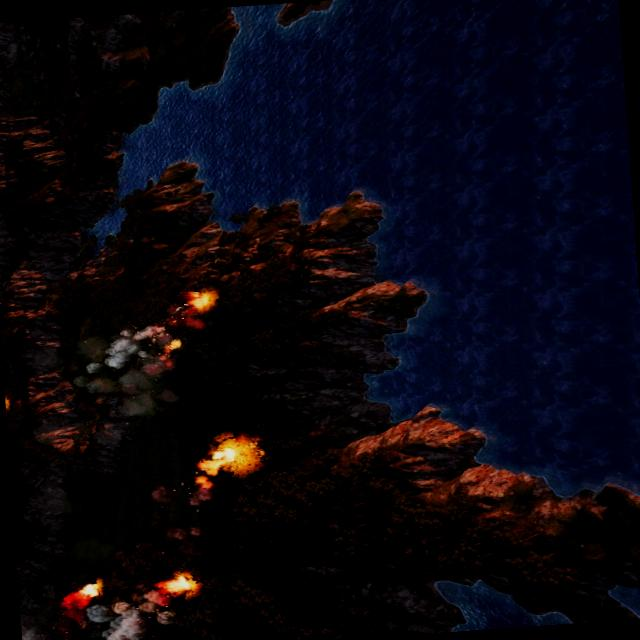fire: (191, 434, 259, 478), (156, 570, 197, 594), (73, 580, 104, 600), (188, 288, 214, 309), (166, 336, 182, 348)
smoke: (73, 322, 175, 416), (18, 587, 173, 640), (148, 479, 218, 508)
